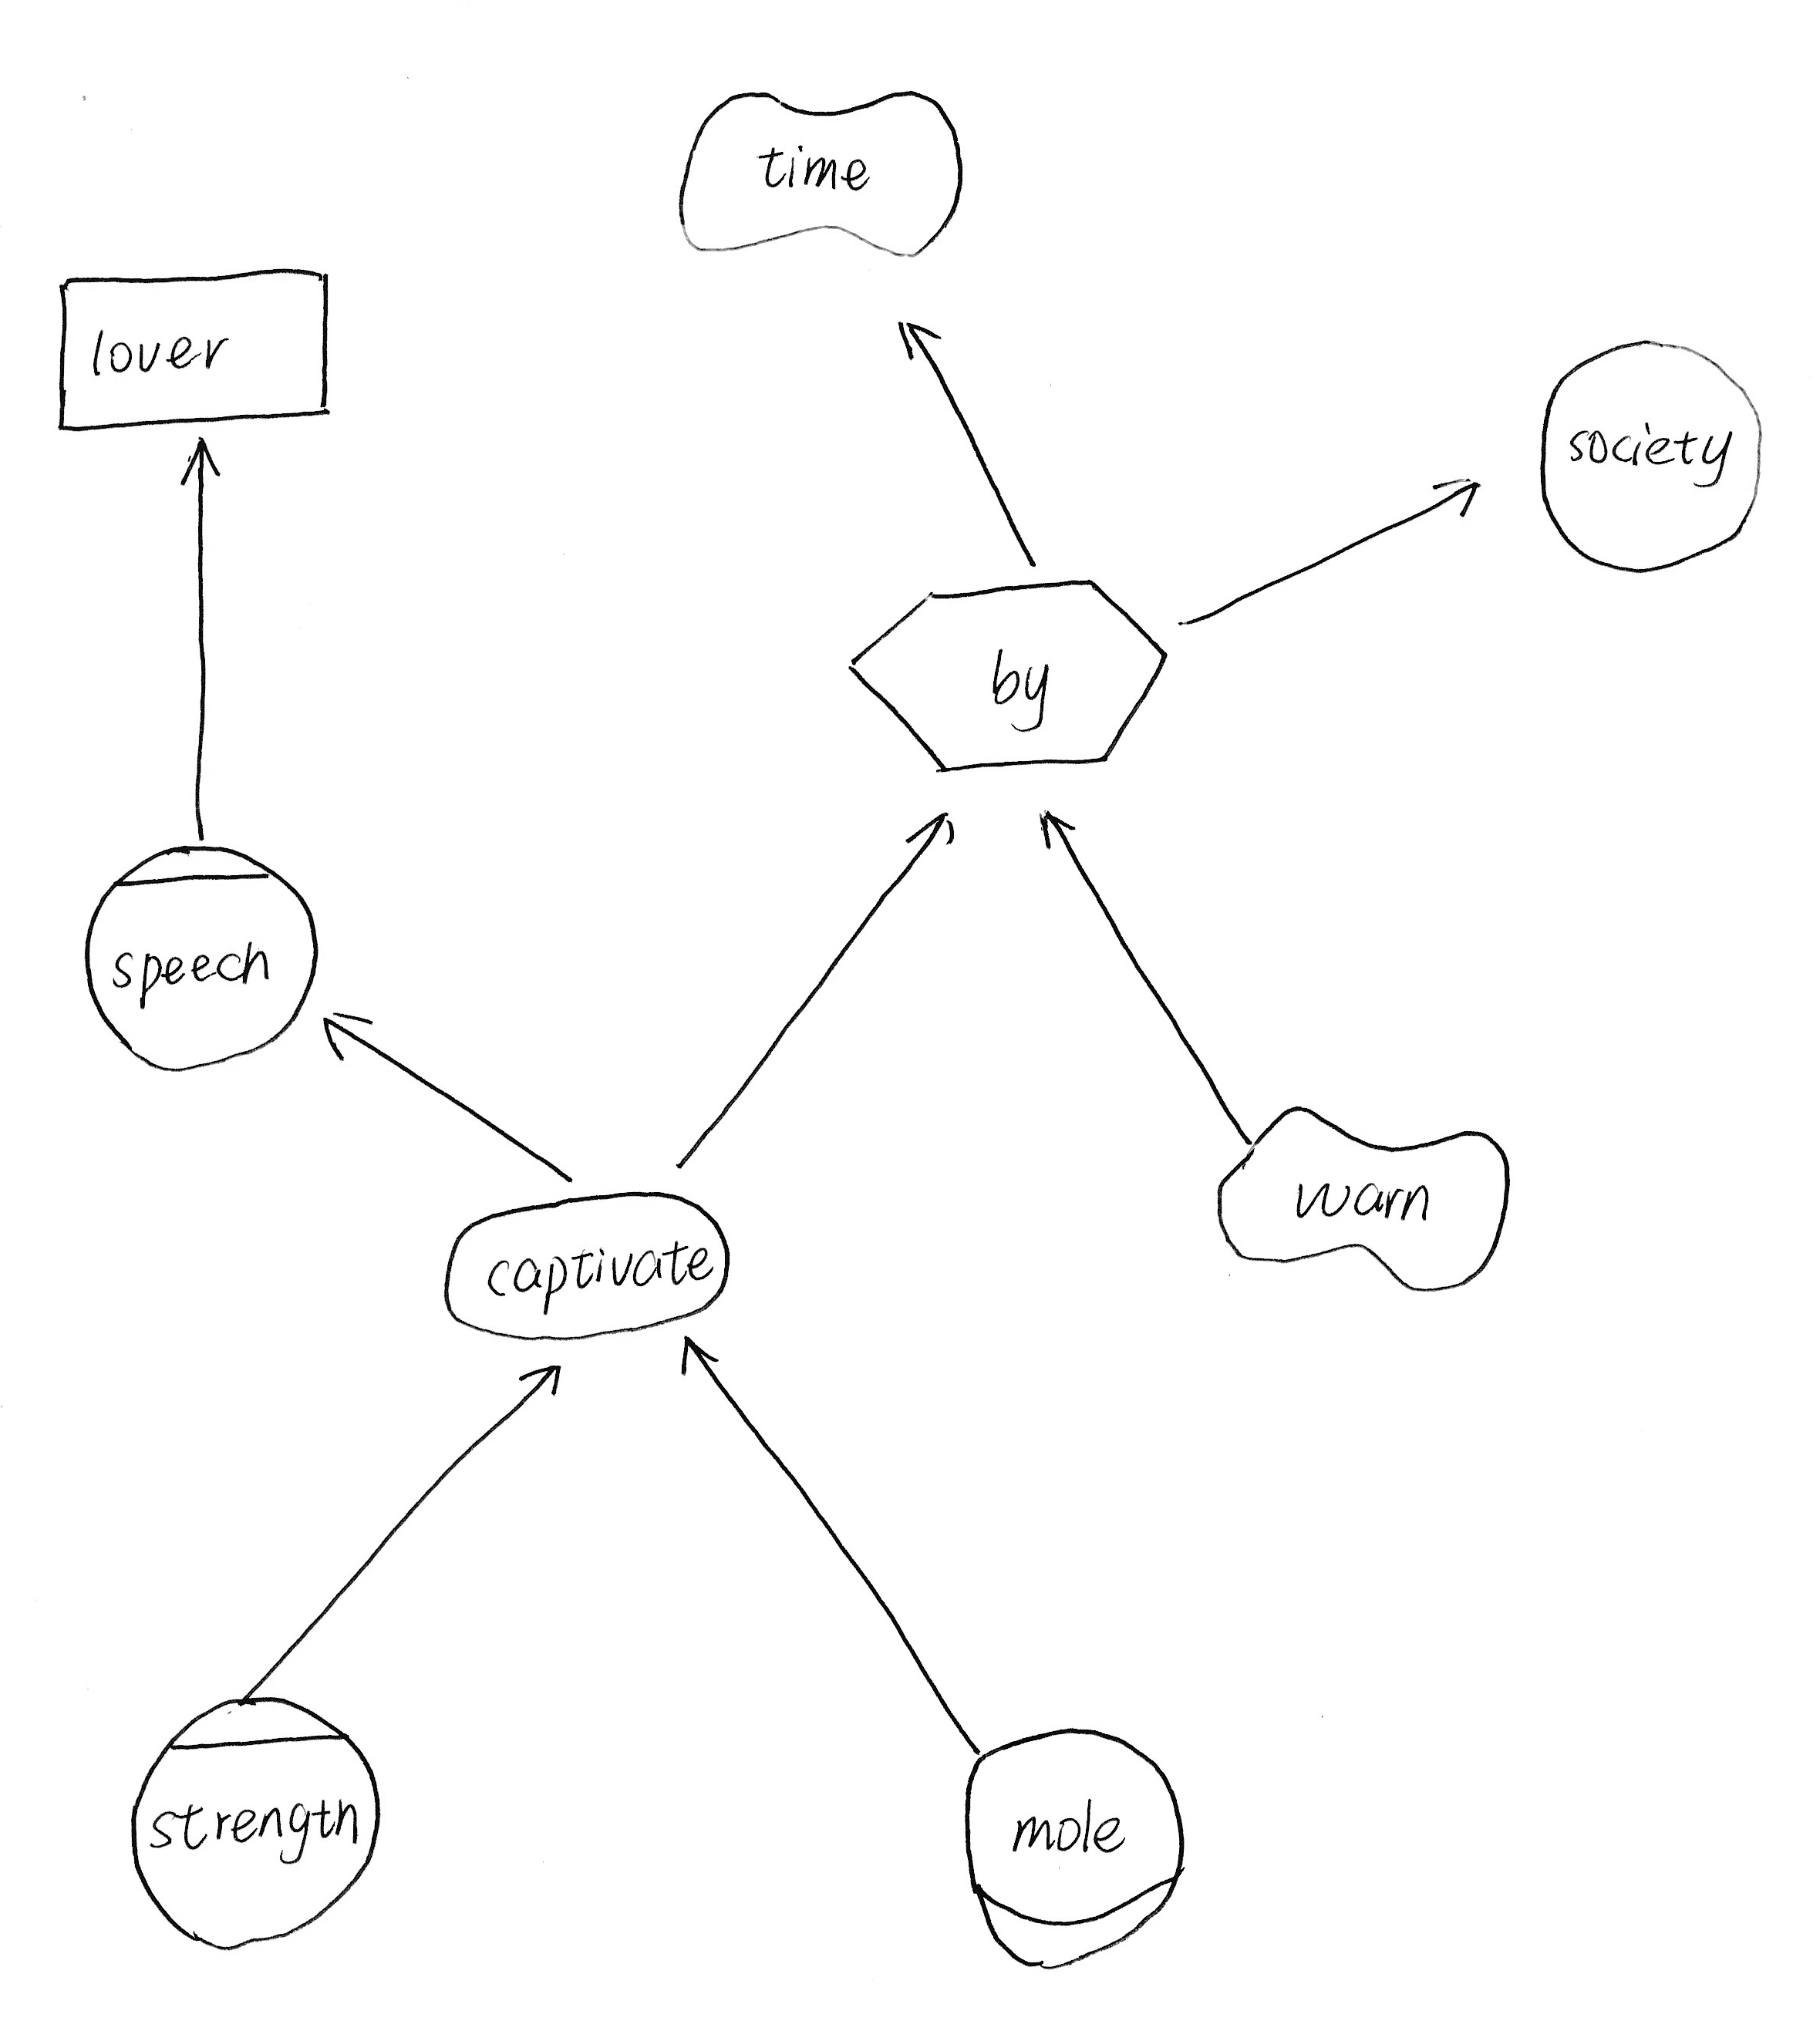actor: (1523, 318, 1778, 586)
agent: (105, 1679, 397, 1958), (70, 829, 337, 1089)
arrow: (307, 992, 392, 1075), (1419, 455, 1497, 532), (896, 795, 971, 867), (158, 423, 230, 492), (668, 1319, 733, 1391), (1029, 794, 1093, 867), (511, 1347, 580, 1413), (884, 306, 952, 369)
goal: (427, 1178, 745, 1359)
quality: (1207, 1090, 1525, 1308), (669, 76, 982, 269)
resource: (39, 256, 353, 446)
role: (949, 1712, 1209, 1984)
task: (829, 558, 1179, 785)
